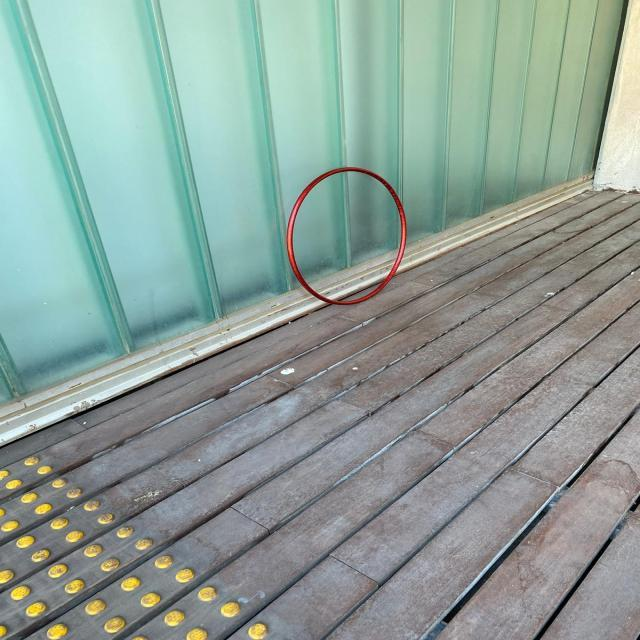Circle: (284, 167, 408, 306)
